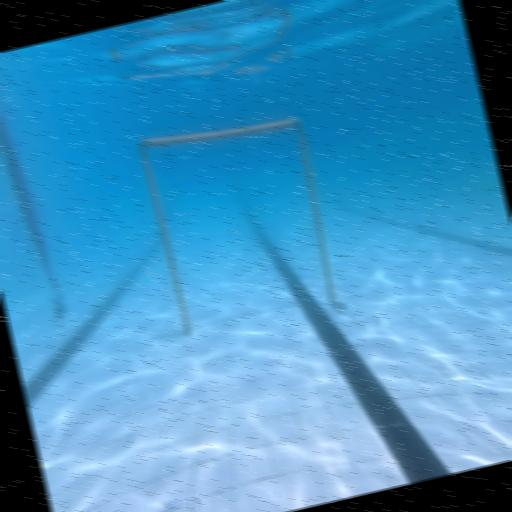gate: (138, 102, 348, 346)
